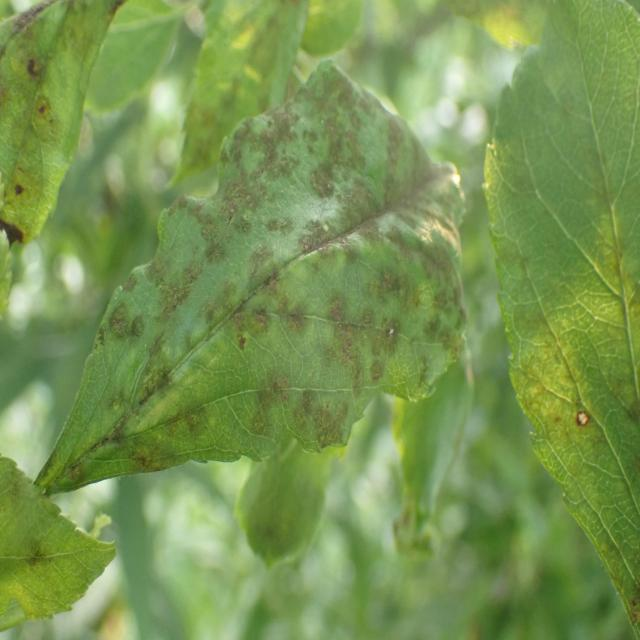scab: (60, 84, 471, 482), (514, 65, 640, 640), (0, 0, 120, 358), (0, 479, 105, 624)
